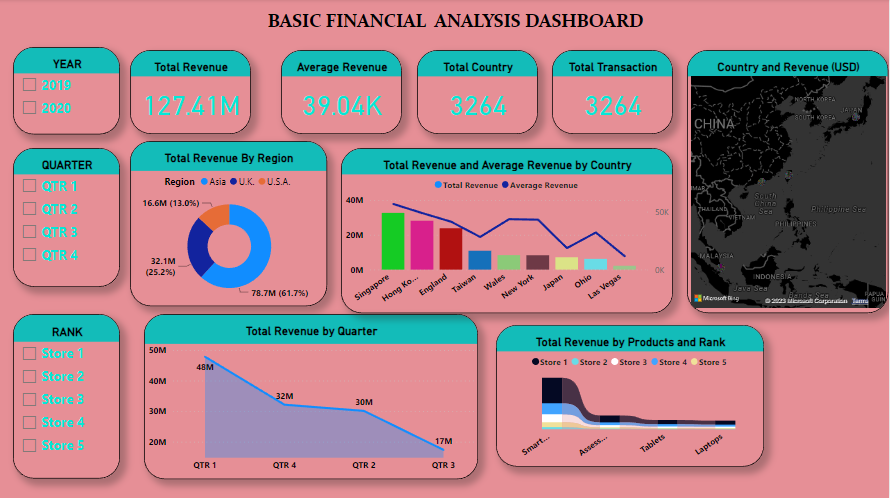

The page's visual inventory and layout, read from the dashboard file:
{"tool":"powerbi","page":{"name":"Page 1","canvas":[1280,720],"ordinal":0},"visuals":[{"type":"slicer","title":"YEAR","fields":{"Values":["Sheet1.Years"]},"box":[18.5,68.8,154.3,125.8],"z":0},{"type":"slicer","title":"RANK","fields":{"Values":["Sheet1.Rank"]},"box":[18.5,452.9,154.3,236.5],"z":1000},{"type":"slicer","title":"QUARTER","fields":{"Values":["Sheet1.Quarter"]},"box":[18.5,214.7,154.3,199.6],"z":2000},{"type":"card","title":"Total Revenue","fields":{"Values":["Measure.Total Revenue"]},"box":[187.9,73.8,174.5,120.8],"z":3000},{"type":"card","title":"Average Revenue","fields":{"Values":["Measure.Average Revenue"]},"box":[404.3,73.8,174.5,120.8],"z":4000},{"type":"card","title":"Total Country","fields":{"Values":["Measure.Total Country"]},"box":[600.6,73.8,174.5,120.8],"z":5000},{"type":"card","title":"Total Transaction","fields":{"Values":["Measure.Total Transcation"]},"box":[795.2,73.8,174.5,120.8],"z":6000},{"type":"donutChart","title":"Total Revenue By Region","fields":{"Y":["Measure.Total Revenue"],"Category":["Sheet1.Region"]},"box":[187.9,204.7,283.5,238.2],"z":7000},{"type":"areaChart","fields":{"Y":["Measure.Total Revenue"],"Category":["Sheet1.Quarter"]},"box":[207.4,453.6,481,237.6],"z":8000},{"type":"lineStackedColumnComboChart","title":"Total Revenue and Average Revenue by  Country","fields":{"Category":["Sheet1.Country"],"Y":["Measure.Total Revenue"],"Y2":["Measure.Average Revenue"]},"box":[491.5,214.7,478.1,238.2],"z":9000},{"type":"ribbonChart","fields":{"Y":["Measure.Total Revenue"],"Series":["Sheet1.Rank"],"Category":["Sheet1.Products"]},"box":[714.2,469.4,385.9,204.5],"z":10000},{"type":"map","fields":{"Category":["Sheet1.Country"],"Series":["Sheet1.Revenue (USD)"]},"box":[989.8,73.8,290.2,379.1],"z":11000},{"type":"textbox","box":[342.7,10.1,626.4,41.8],"z":12000}]}

Visuals, with their boxes in screenshot pixels (x1, y1, x2, y2), scaled from the page's 1280x720 canvas onto the 890x498 screenshot:
"YEAR" slicer: 13:48:120:135
"RANK" slicer: 13:313:120:477
"QUARTER" slicer: 13:149:120:287
"Total Revenue" card: 131:51:252:135
"Average Revenue" card: 281:51:402:135
"Total Country" card: 418:51:539:135
"Total Transaction" card: 553:51:674:135
"Total Revenue By Region" donutChart: 131:142:328:306
areaChart - Measure.Total Revenue x Sheet1.Quarter: 144:314:479:478
"Total Revenue and Average Revenue by  Country" lineStackedColumnComboChart: 342:149:674:313
ribbonChart - Measure.Total Revenue x Sheet1.Rank: 497:325:765:466
map - Sheet1.Country x Sheet1.Revenue (USD): 688:51:889:313
textbox: 238:7:674:36
